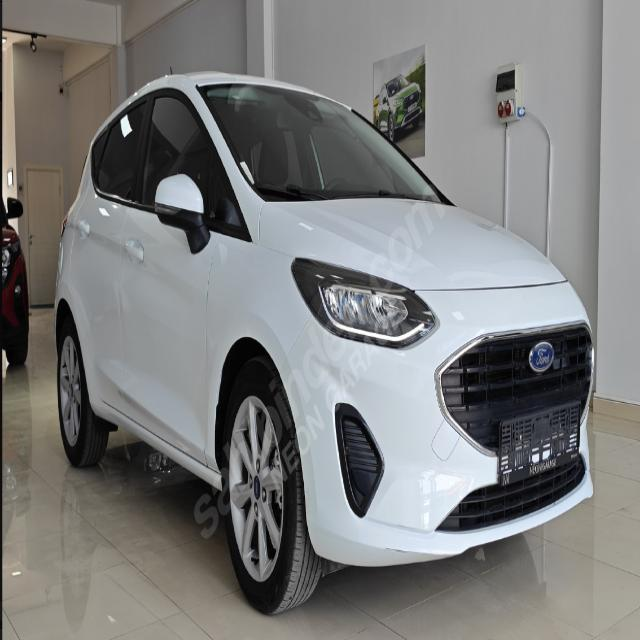ford: (527, 336, 555, 376)
